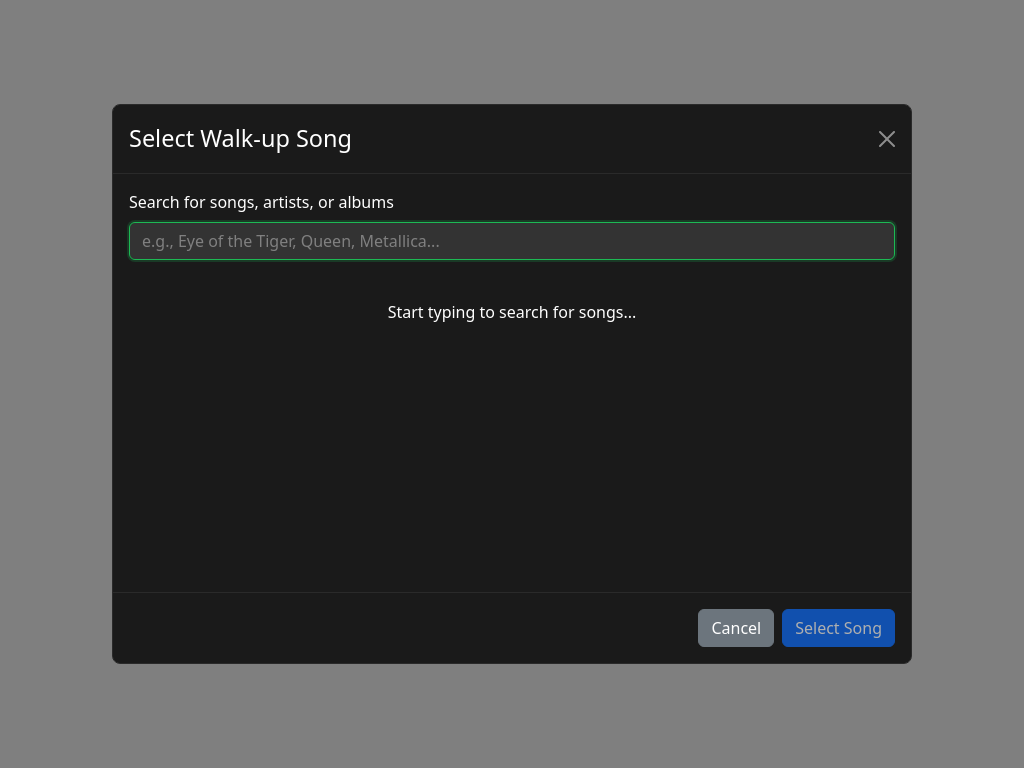
Scenario: SongSelector › should display search results
Type "test" into the field labelled "Search for songs, artists, or albums" at (512, 241), box [129,222,895,260]
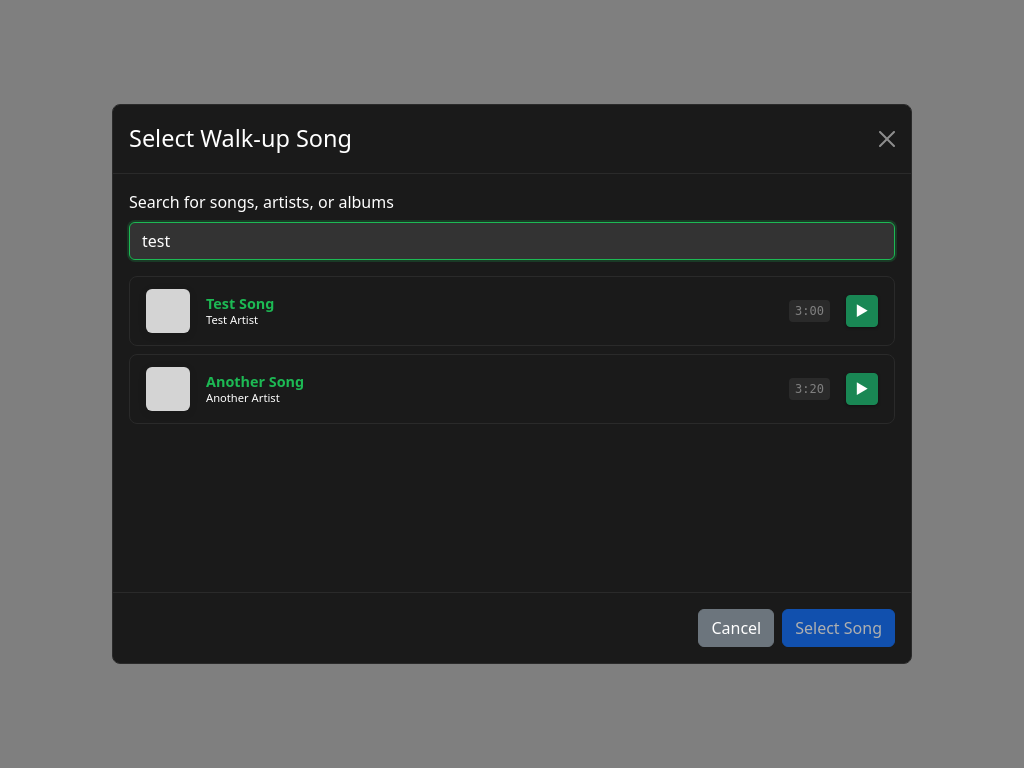
Check: the text "Test Song" is shown, box [206,295,274,313]
Check: the text "Test Artist" is shown, box [206,312,258,326]
Check: the text "Another Song" is shown, box [206,373,304,391]
